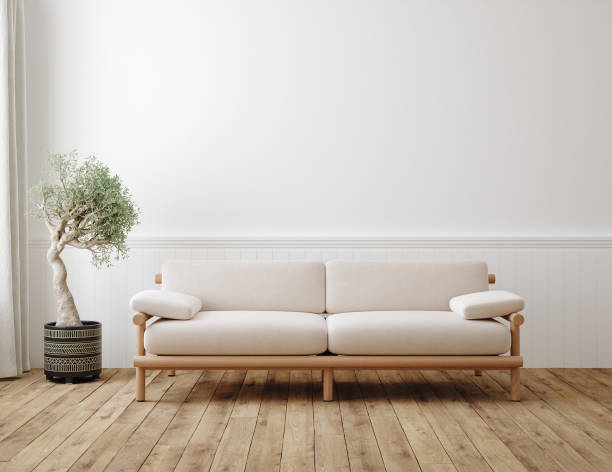large plant: (29, 151, 141, 388)
sofa: (129, 254, 528, 406)
